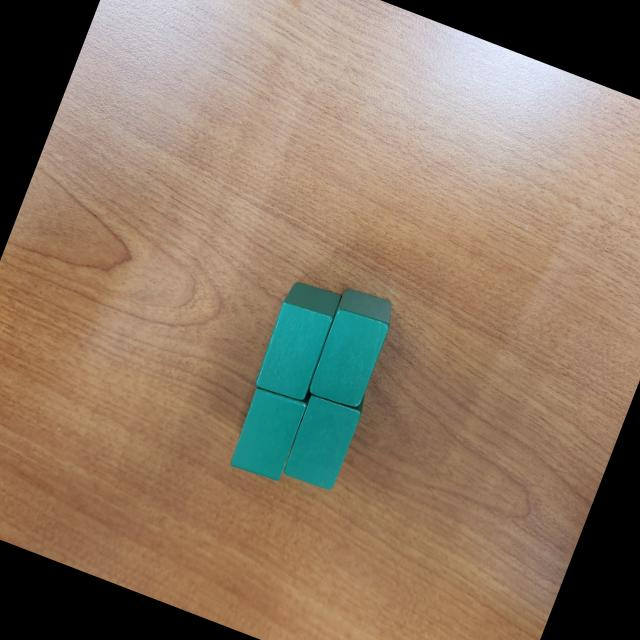green: (250, 274, 348, 404), (302, 286, 398, 416), (278, 389, 367, 496), (223, 382, 311, 487)
